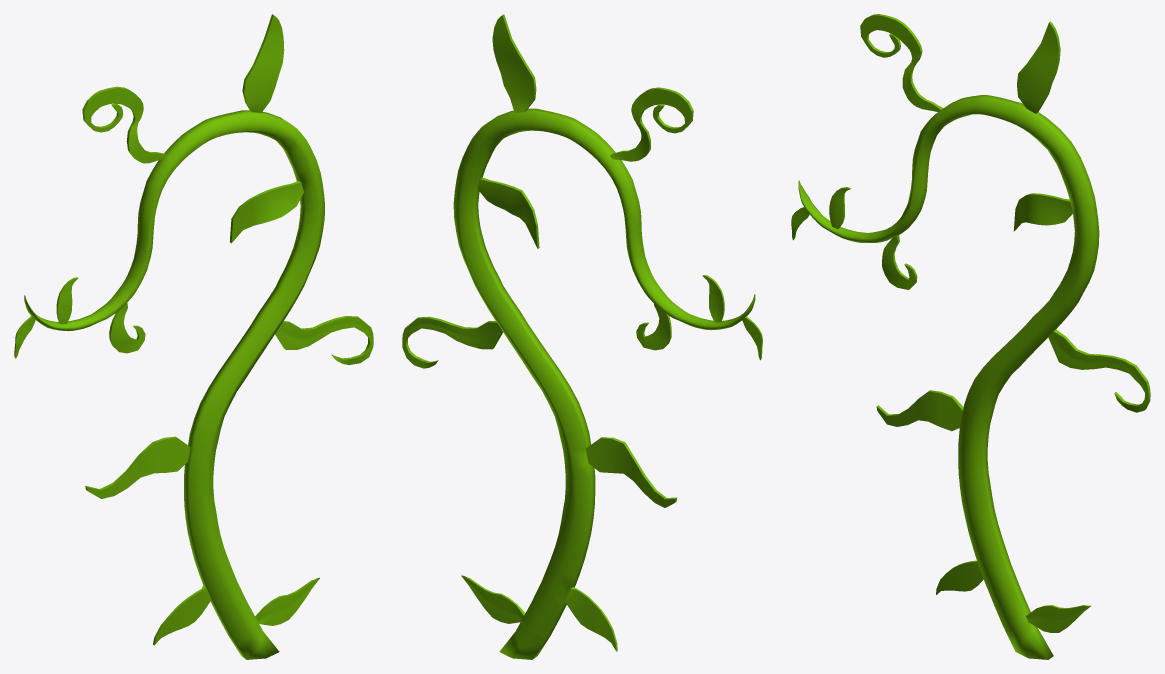
Rendered from MS_Vine.fbx.
3 views of the same model, side by side, from view 1: azimuth 30°, elevation 25°; view 2: azimuth 150°, elevation 25°; view 3: azimuth 330°, elevation 25° (orthographic).
Parts seen in each view (by area): view 1: MS_Vine; view 2: MS_Vine; view 3: MS_Vine.
Part boxes in pixels (x1=…): MS_Vine: x1=14, y1=14, x2=373, y2=659; MS_Vine: x1=402, y1=14, x2=762, y2=659; MS_Vine: x1=791, y1=14, x2=1150, y2=659.
Size of the model in its own units: 0.8983 by 1.52 by 0.067.
